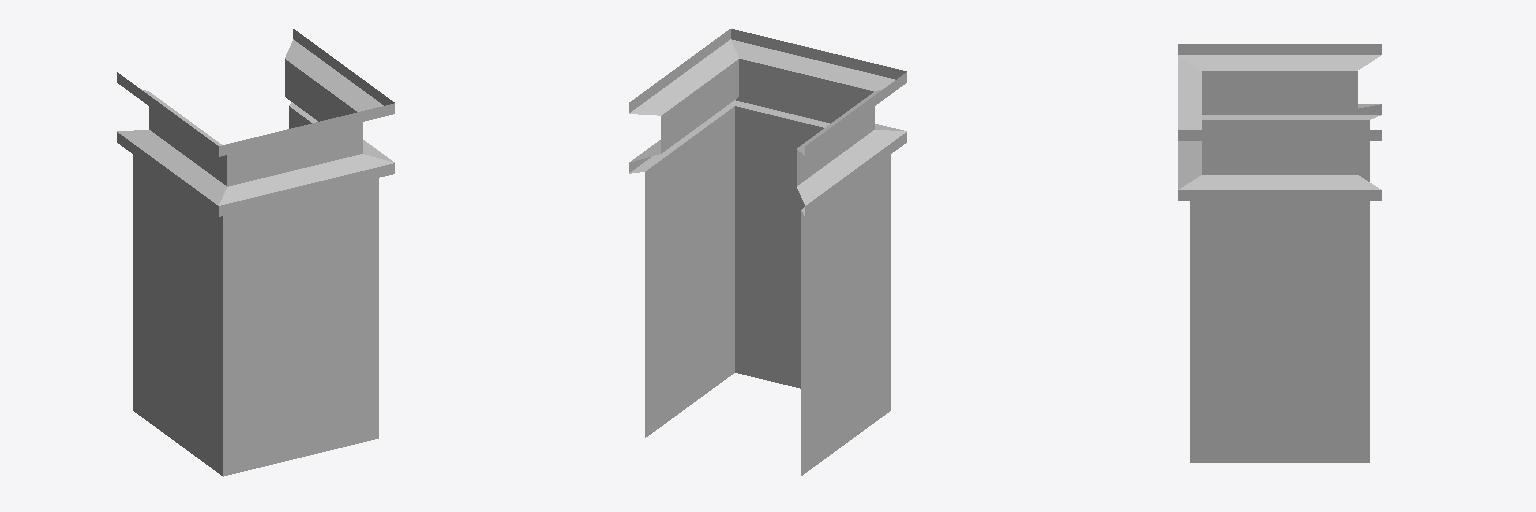
The model's file is industry_build_6.obj.
3 renders of one model, left to right at view 1: azimuth 30°, elevation 25°; view 2: azimuth 150°, elevation 25°; view 3: azimuth 270°, elevation 25°, orthographic.
Parts seen in each view (by area): view 1: IndustryBuild6_00; view 2: IndustryBuild6_00; view 3: IndustryBuild6_00.
Part boxes in pixels (left/top/right/bottom): IndustryBuild6_00: left=117, top=29, right=394, bottom=476; IndustryBuild6_00: left=629, top=29, right=906, bottom=475; IndustryBuild6_00: left=1178, top=44, right=1381, bottom=462.
Bounding box in the file's own units: 3.4 × 6.2 × 3.4.